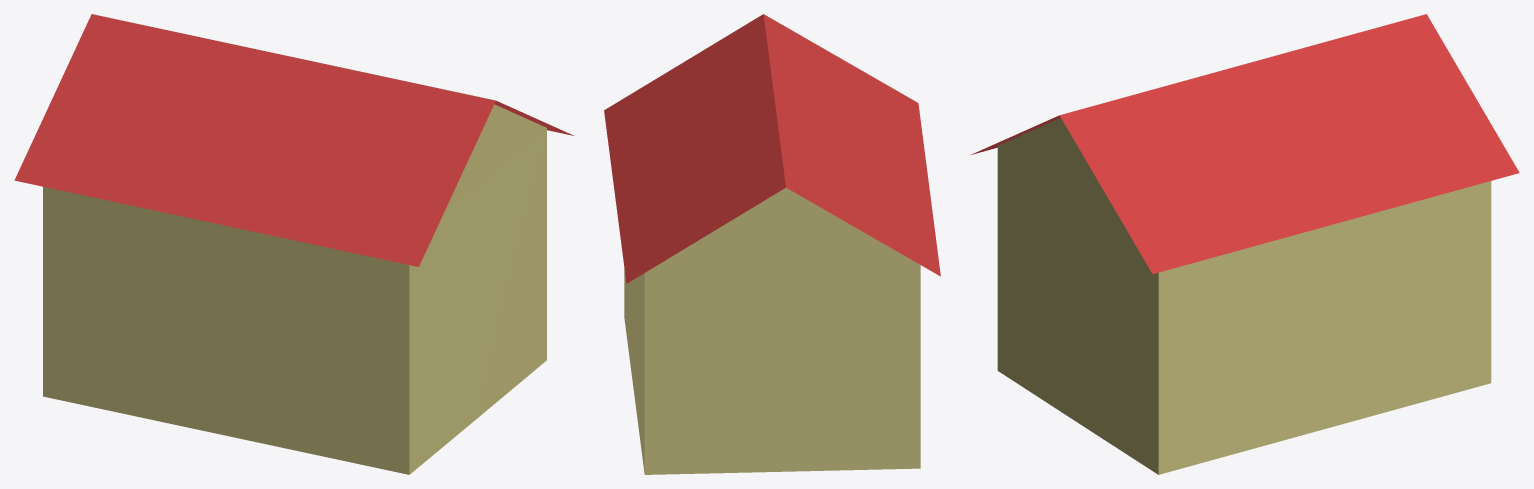
The picture shows the model from 3 angles, left to right: view 1: azimuth 30°, elevation 25°; view 2: azimuth 150°, elevation 25°; view 3: azimuth 270°, elevation 25°; orthographic projection. The views are drawn at different scales.
Bounding box in the file's own units: 19.03 × 20.12 × 12.56.
